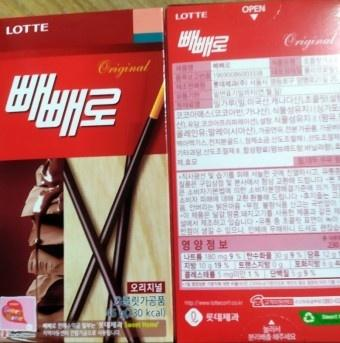snack: (165, 0, 340, 343), (0, 7, 173, 343)
